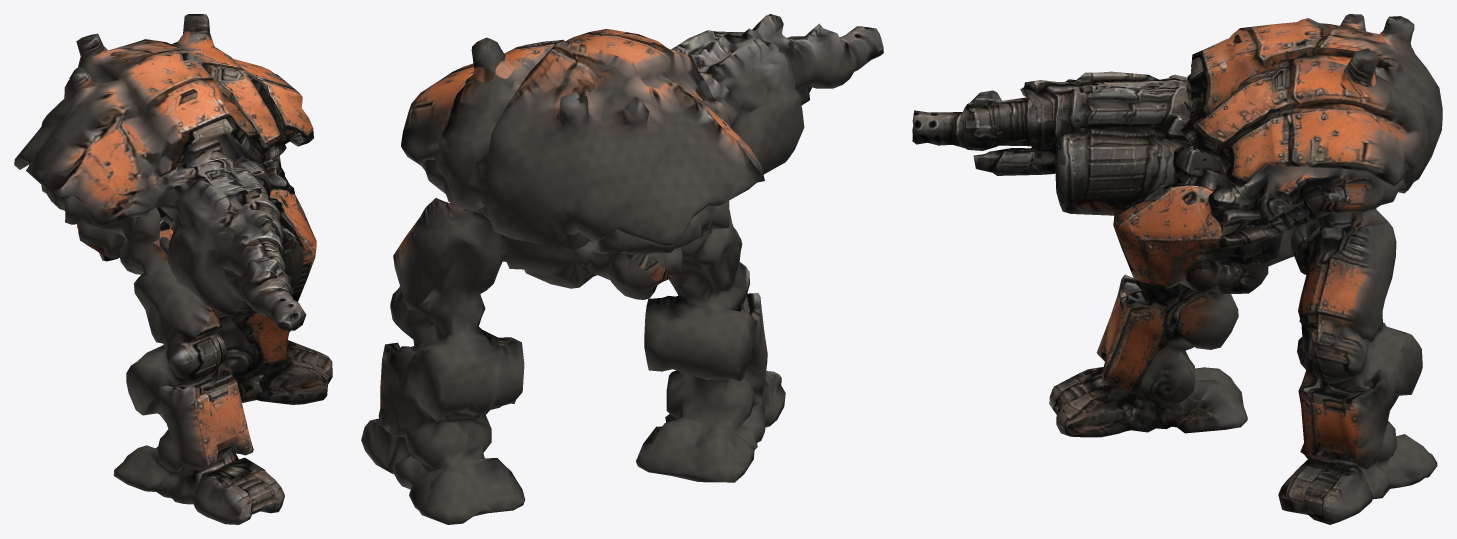
The model's file is hammerback_lod1.glb.
3 renders of one model, left to right at view 1: azimuth 30°, elevation 25°; view 2: azimuth 150°, elevation 25°; view 3: azimuth 270°, elevation 25°, orthographic. The views are drawn at different scales.
Parts seen in each view (by area): view 1: geometry_0; view 2: geometry_0; view 3: geometry_0.
Part boxes in pixels (x1,y1,x2,y2): geometry_0: [14, 14, 332, 524]; geometry_0: [361, 14, 883, 524]; geometry_0: [912, 14, 1442, 524].
Size of the model in its own units: 1.44 by 1.71 by 1.99.
Materials: 1 (1 with a texture image).
